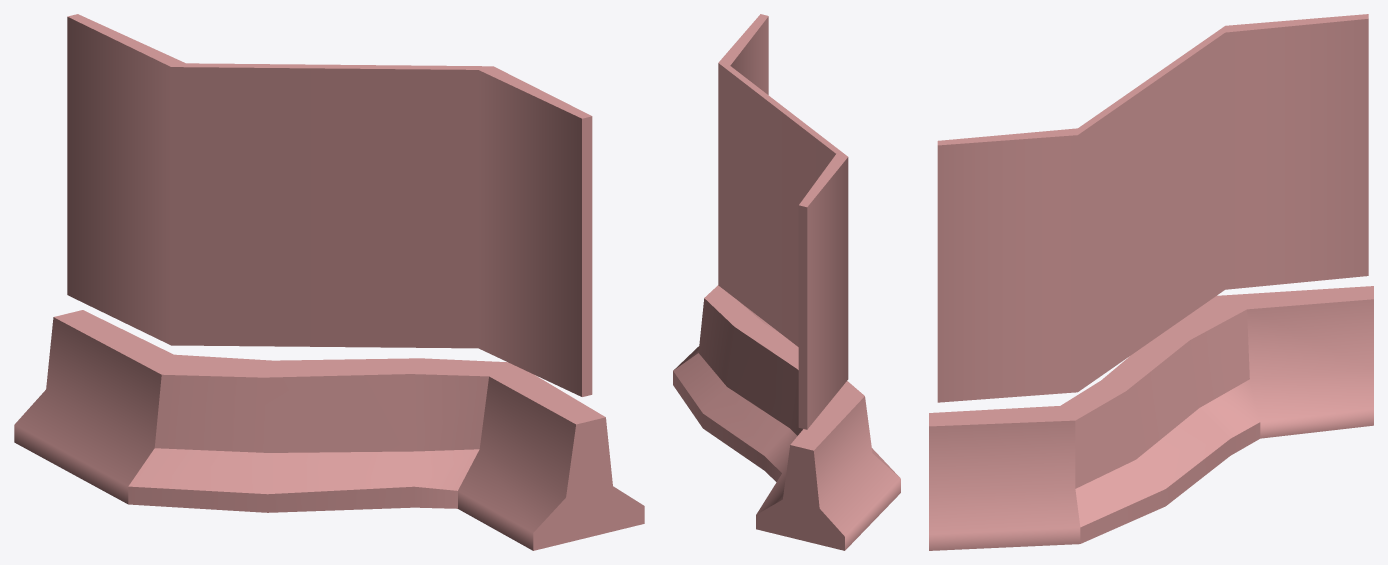
Rendered from Fence_A_F_COL.fbx.
The picture shows the model from 3 angles, left to right: view 1: azimuth 30°, elevation 25°; view 2: azimuth 150°, elevation 25°; view 3: azimuth 270°, elevation 25°; orthographic projection. The views are drawn at different scales.
Visible parts, largest first — view 1: Fence_A_F_Wire_COL, Fence_A_F_COL; view 2: Fence_A_F_Wire_COL, Fence_A_F_COL; view 3: Fence_A_F_Wire_COL, Fence_A_F_COL.
Boxes of the visible parts, x1,y1,x2,y2 form: Fence_A_F_Wire_COL: (67, 14, 592, 396); Fence_A_F_COL: (14, 310, 644, 550); Fence_A_F_Wire_COL: (718, 14, 848, 429); Fence_A_F_COL: (673, 285, 900, 550); Fence_A_F_Wire_COL: (937, 14, 1368, 402); Fence_A_F_COL: (929, 286, 1373, 550).
Bounding box in the file's own units: 280 × 286 × 300.
